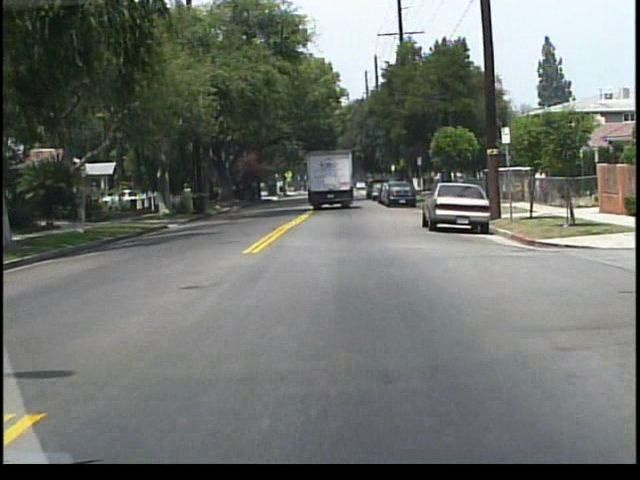person: (531, 165, 547, 202)
